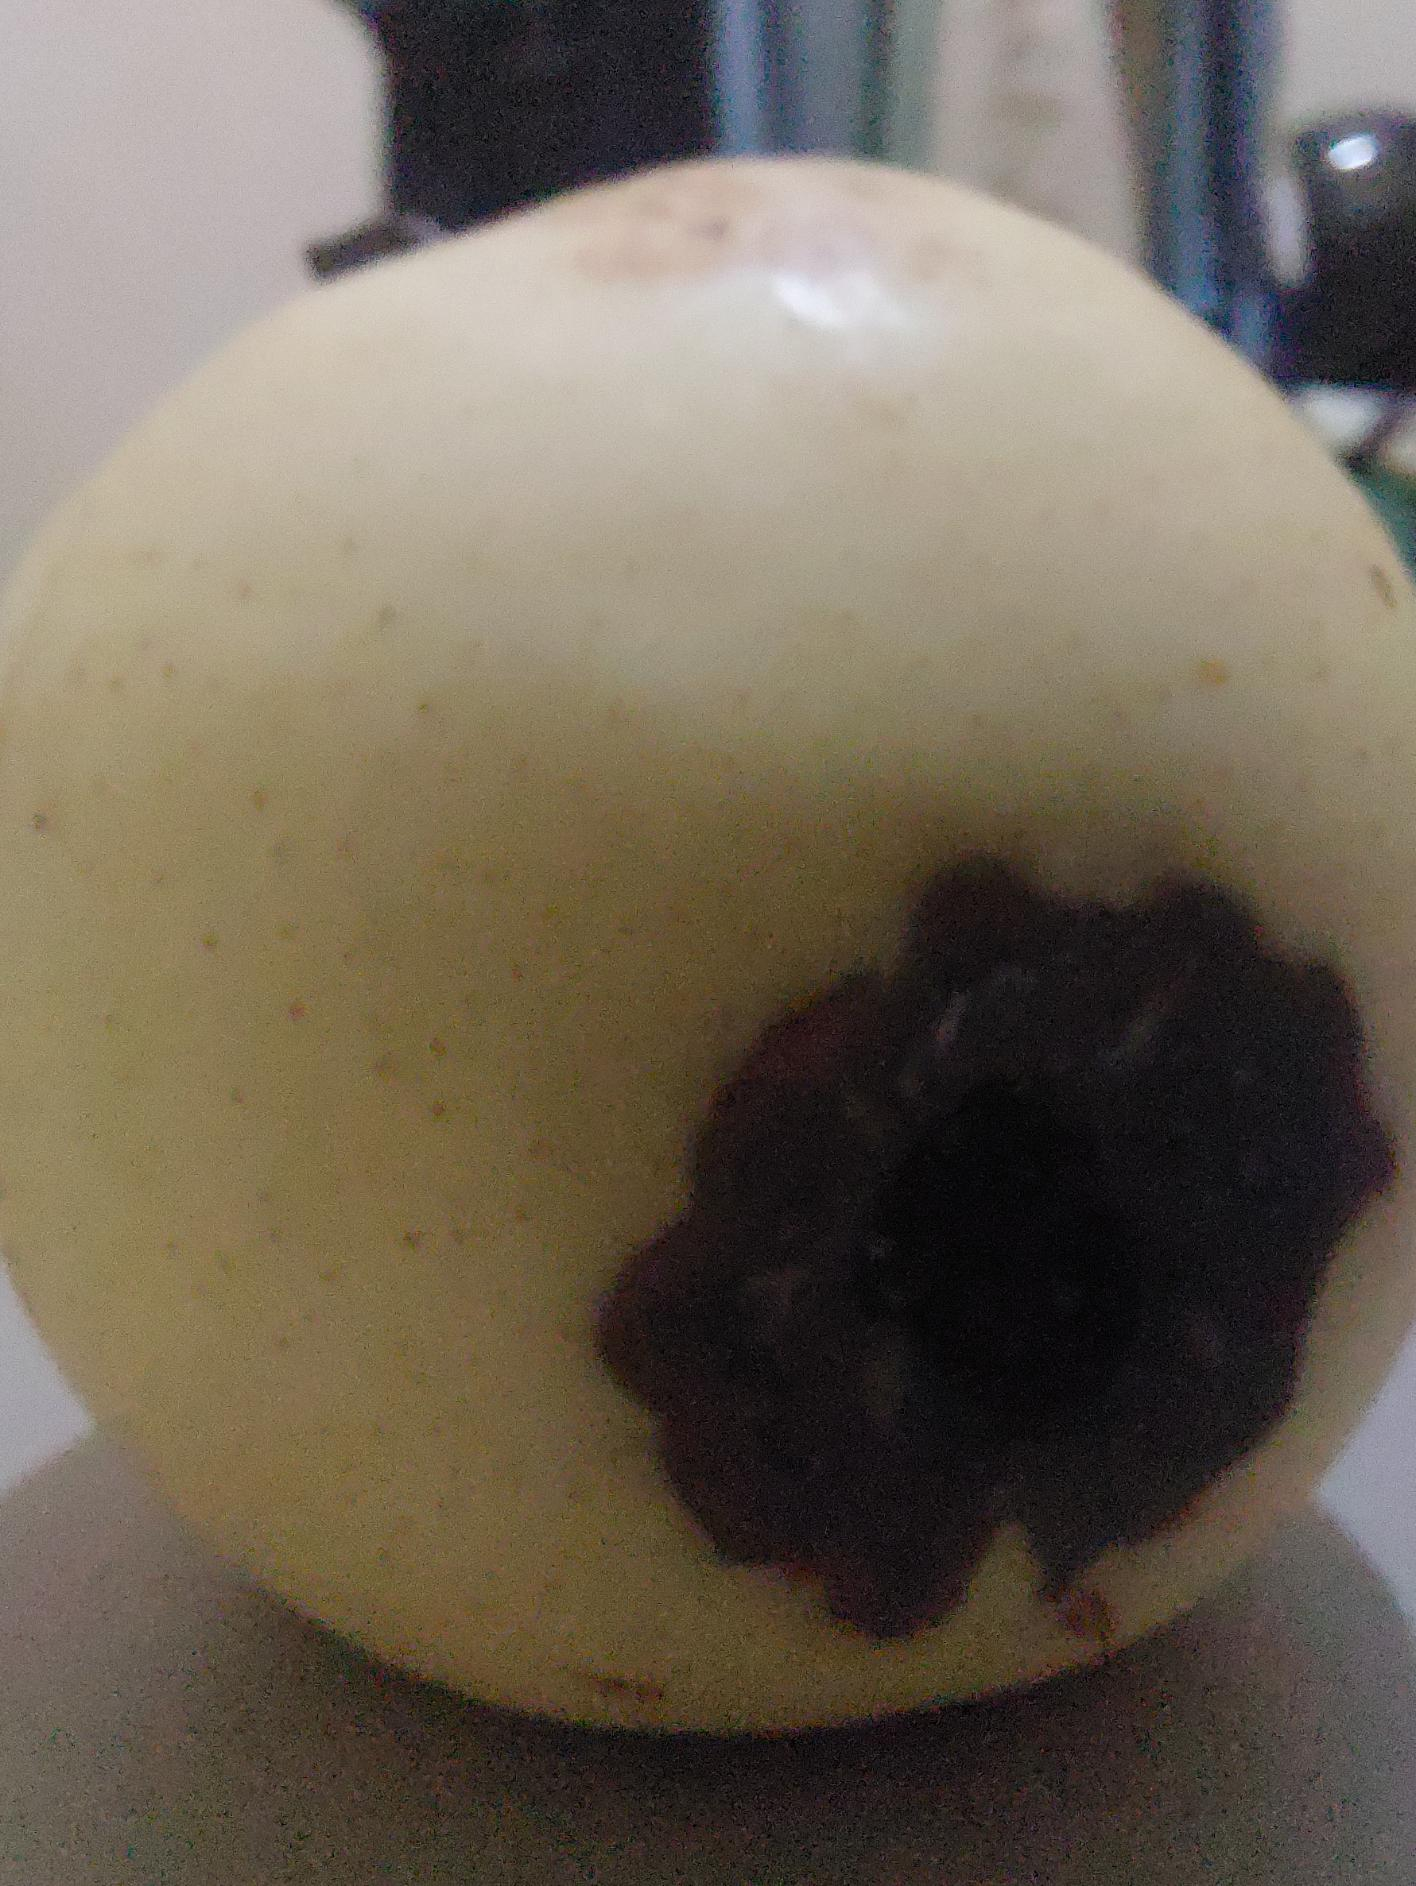Bad Pear: (0, 149, 1416, 1763)
